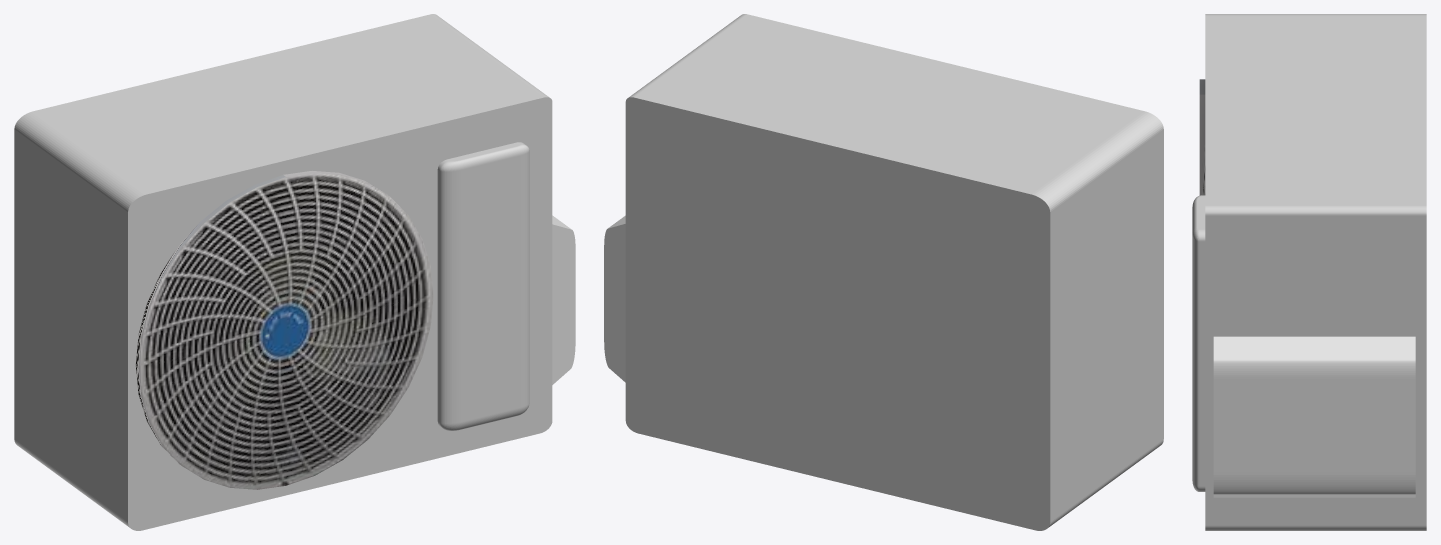
File: Ventilation.glb
3 renders of one model, left to right at view 1: azimuth 30°, elevation 25°; view 2: azimuth 150°, elevation 25°; view 3: azimuth 270°, elevation 25°, orthographic. The views are drawn at different scales.
Visible parts, largest first — view 1: Cube, Cylinder, Cube.001; view 2: Cube, Cube.001; view 3: Cube, Cube.001, Cylinder.
Boxes of the visible parts, left/top/right/bottom form: Cube: left=14, top=14, right=552, bottom=530; Cylinder: left=135, top=171, right=433, bottom=489; Cube.001: left=552, top=215, right=575, bottom=384; Cube: left=625, top=14, right=1163, bottom=530; Cube.001: left=604, top=215, right=625, bottom=382; Cube: left=1192, top=14, right=1426, bottom=530; Cube.001: left=1213, top=336, right=1415, bottom=497; Cylinder: left=1199, top=79, right=1205, bottom=195.
Bounding box in the file's own units: 2.41 × 1.71 × 1.11.
Materials: 2 (1 with a texture image).
